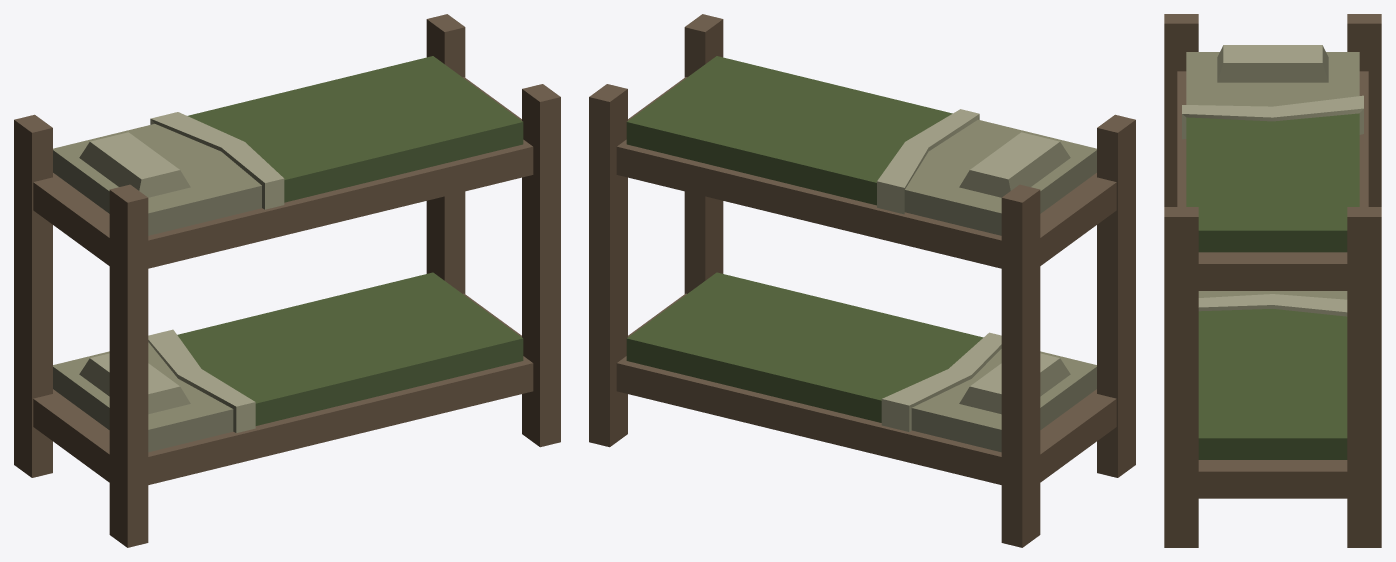
File: SD_Prop_Bed_03.fbx
3 views of the same model, side by side, from view 1: azimuth 30°, elevation 25°; view 2: azimuth 150°, elevation 25°; view 3: azimuth 270°, elevation 25° (orthographic). The views are drawn at different scales.
Parts seen in each view (by area): view 1: SD_Prop_Bed_03; view 2: SD_Prop_Bed_03; view 3: SD_Prop_Bed_03.
Part boxes in pixels (bbox=[...]): SD_Prop_Bed_03: bbox=[14, 14, 560, 547]; SD_Prop_Bed_03: bbox=[589, 14, 1135, 547]; SD_Prop_Bed_03: bbox=[1164, 14, 1381, 547].
Size of the model in its own units: 3.35 by 2.55 by 1.52.
